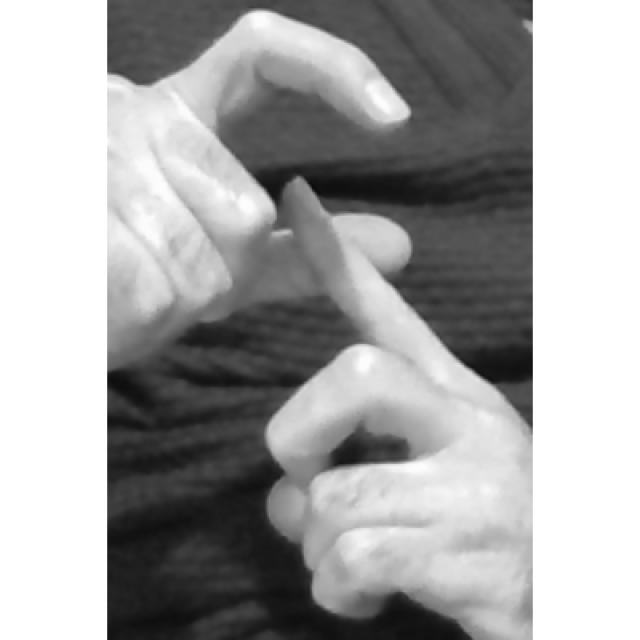C_: (108, 7, 531, 640)
